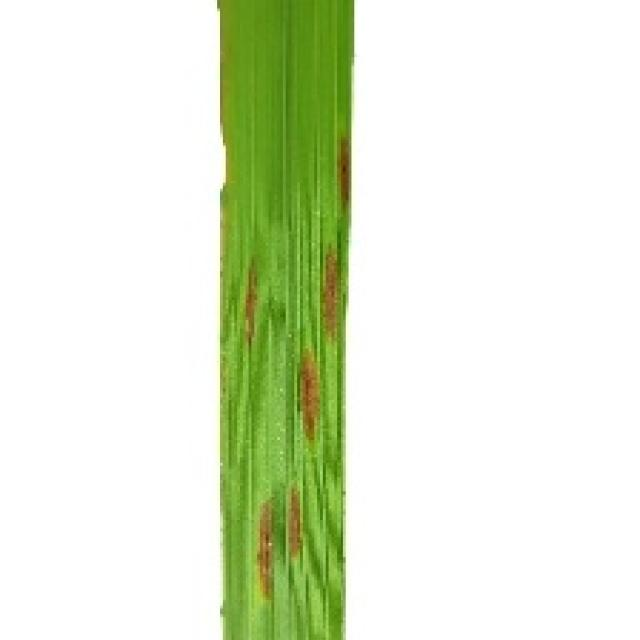Unhealthy: (296, 346, 322, 447), (317, 247, 337, 344), (256, 501, 275, 600), (332, 134, 350, 215), (286, 486, 302, 562), (241, 268, 256, 347)
